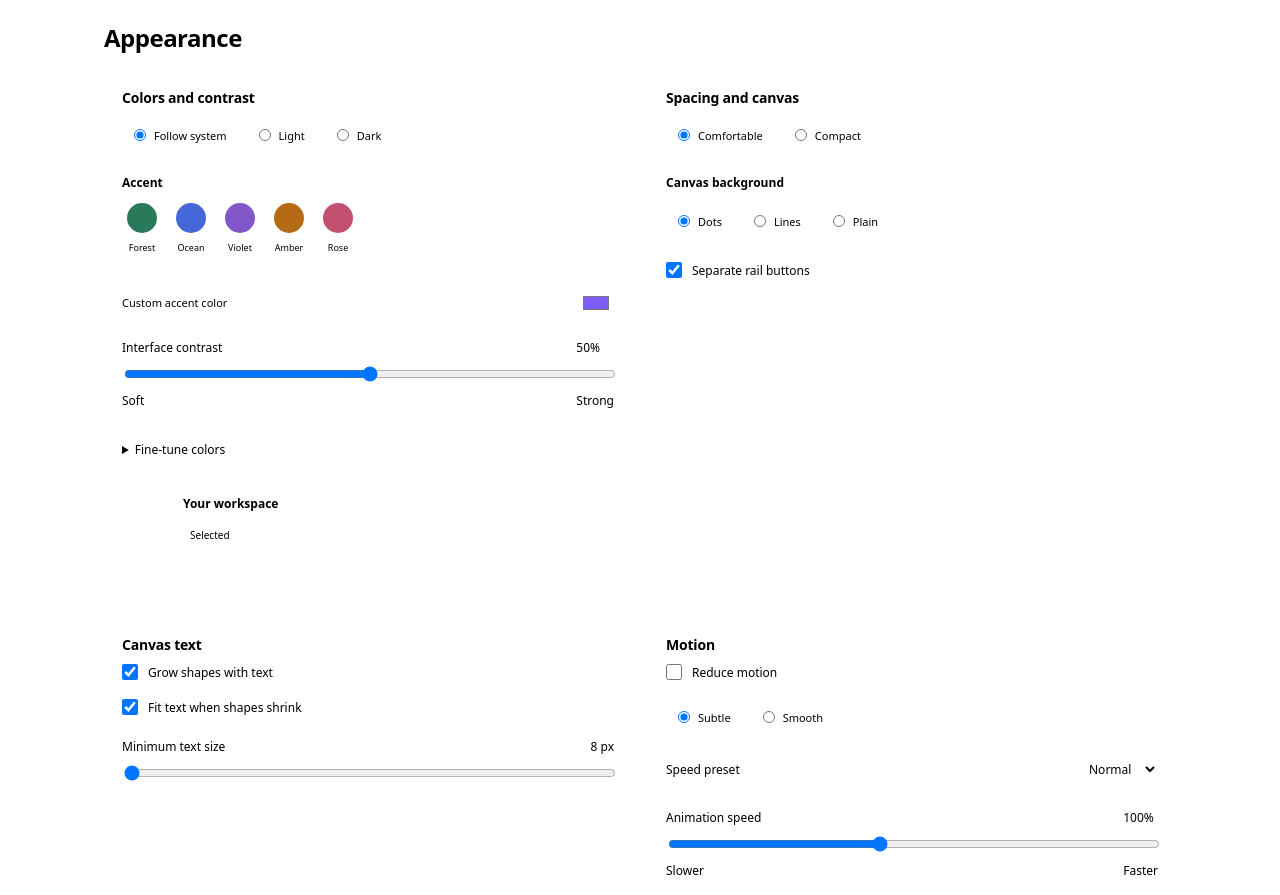
Test: appearance controls › keeps advanced colors collapsed and allows an individual automatic reset
This screenshot has width=1280, height=895.
Click the heading "Fine-tune colors" at point(180, 449), box [135,441,225,458]
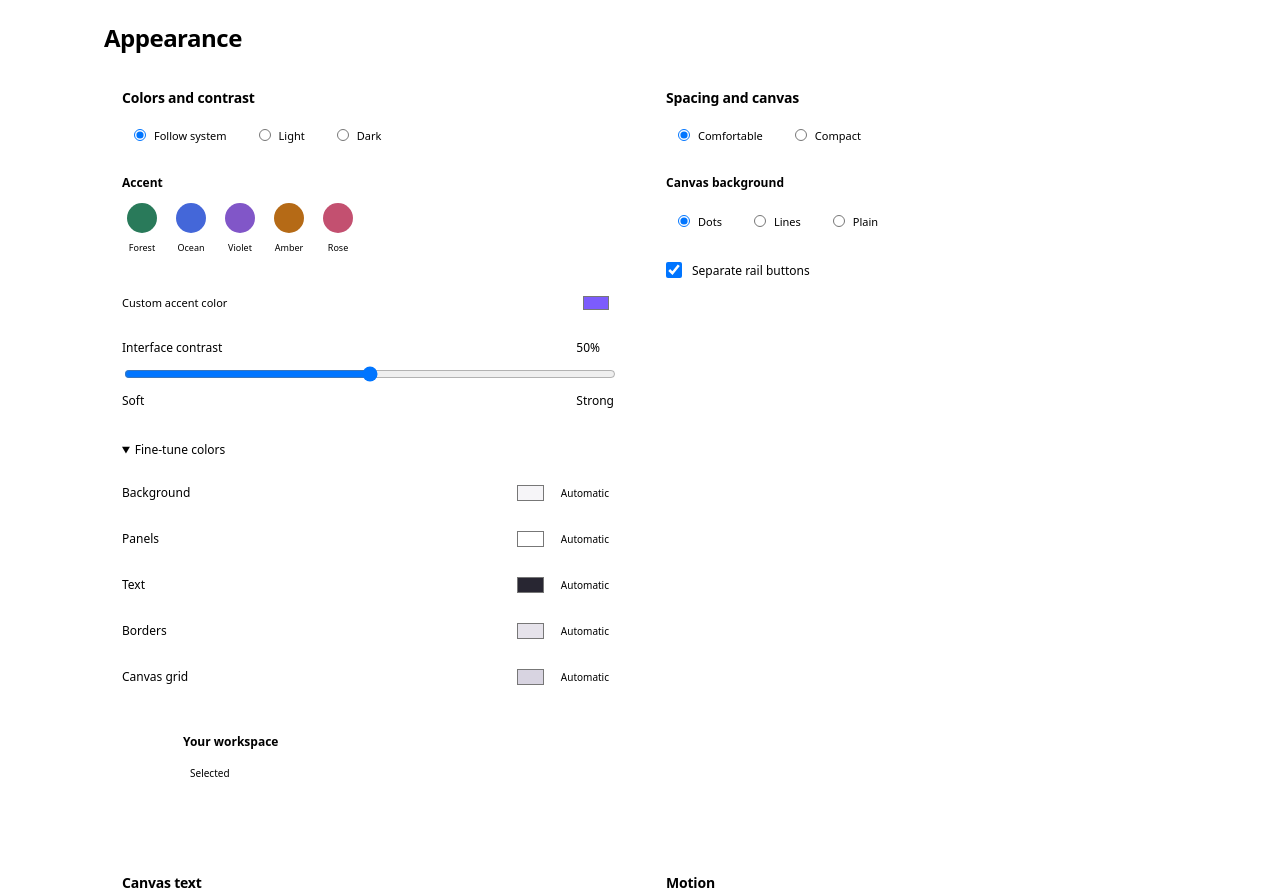
Check: the button with aria-label "Automatic borders color" is disabled, box [556,619,614,643]
Type "#486585" into the colour field named "Borders color" at point(530, 631), box [513,617,548,645]
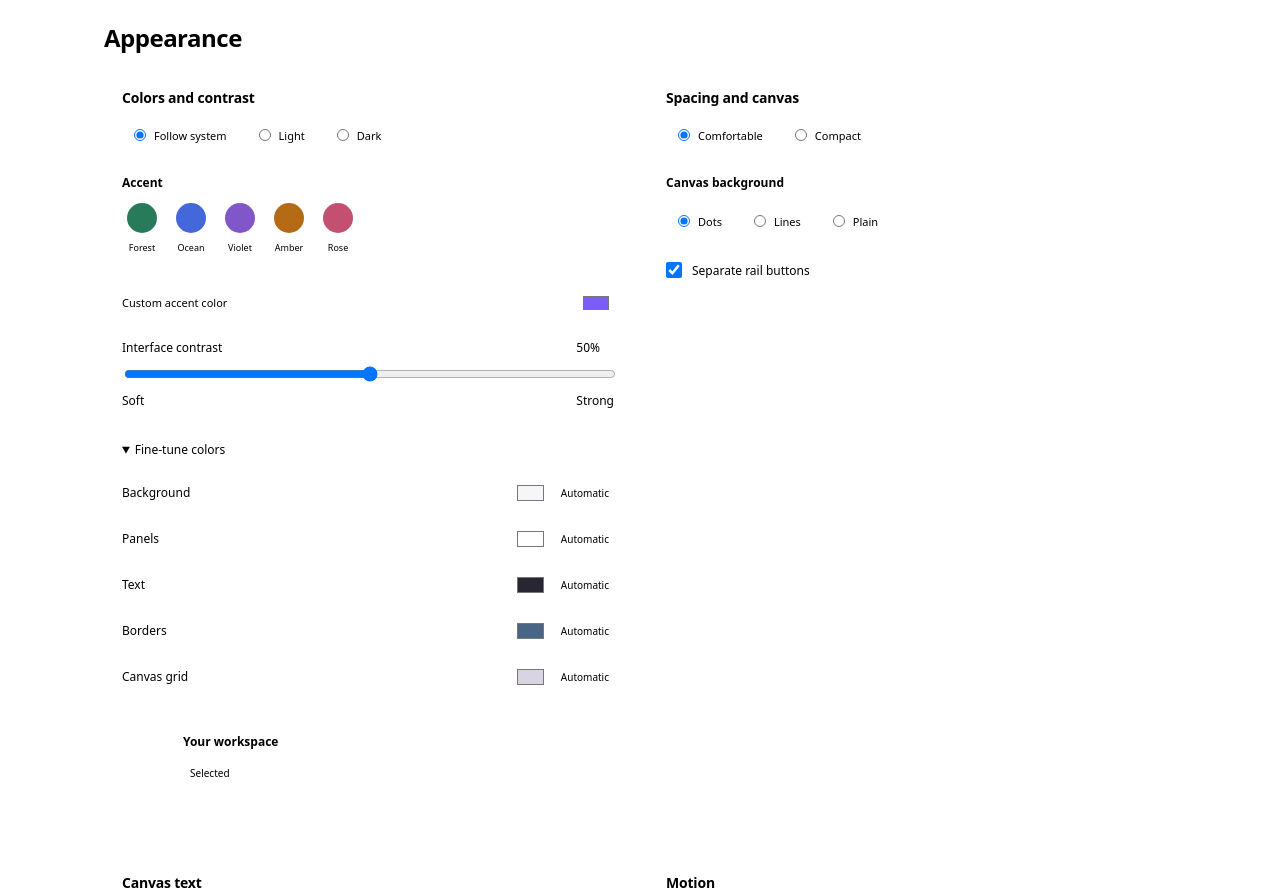
Click the button with aria-label "Automatic borders color" at point(585, 631), box [556,619,614,643]
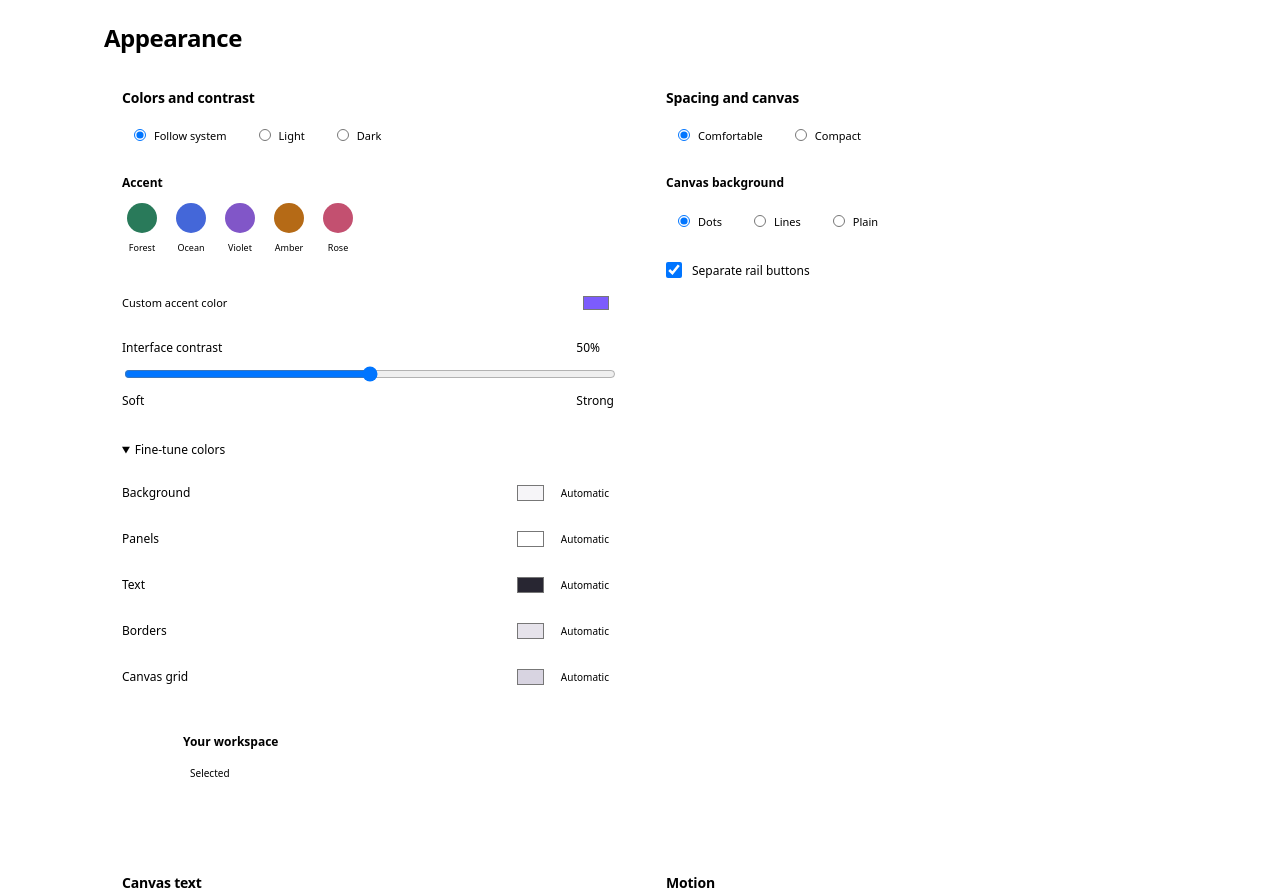
Check: the colour field named "Borders color" holds "#e6e3eb", box [513,617,548,645]
